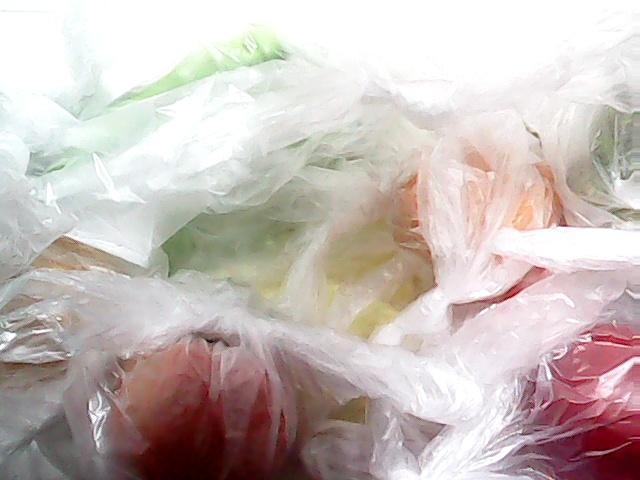apple: (490, 284, 640, 480)
cabbage: (555, 51, 640, 228)
lemon: (363, 118, 572, 302)
napa cabbage: (129, 176, 479, 432)
peach: (108, 326, 300, 480)
pepper: (32, 19, 296, 183)
potato: (0, 220, 126, 384)
